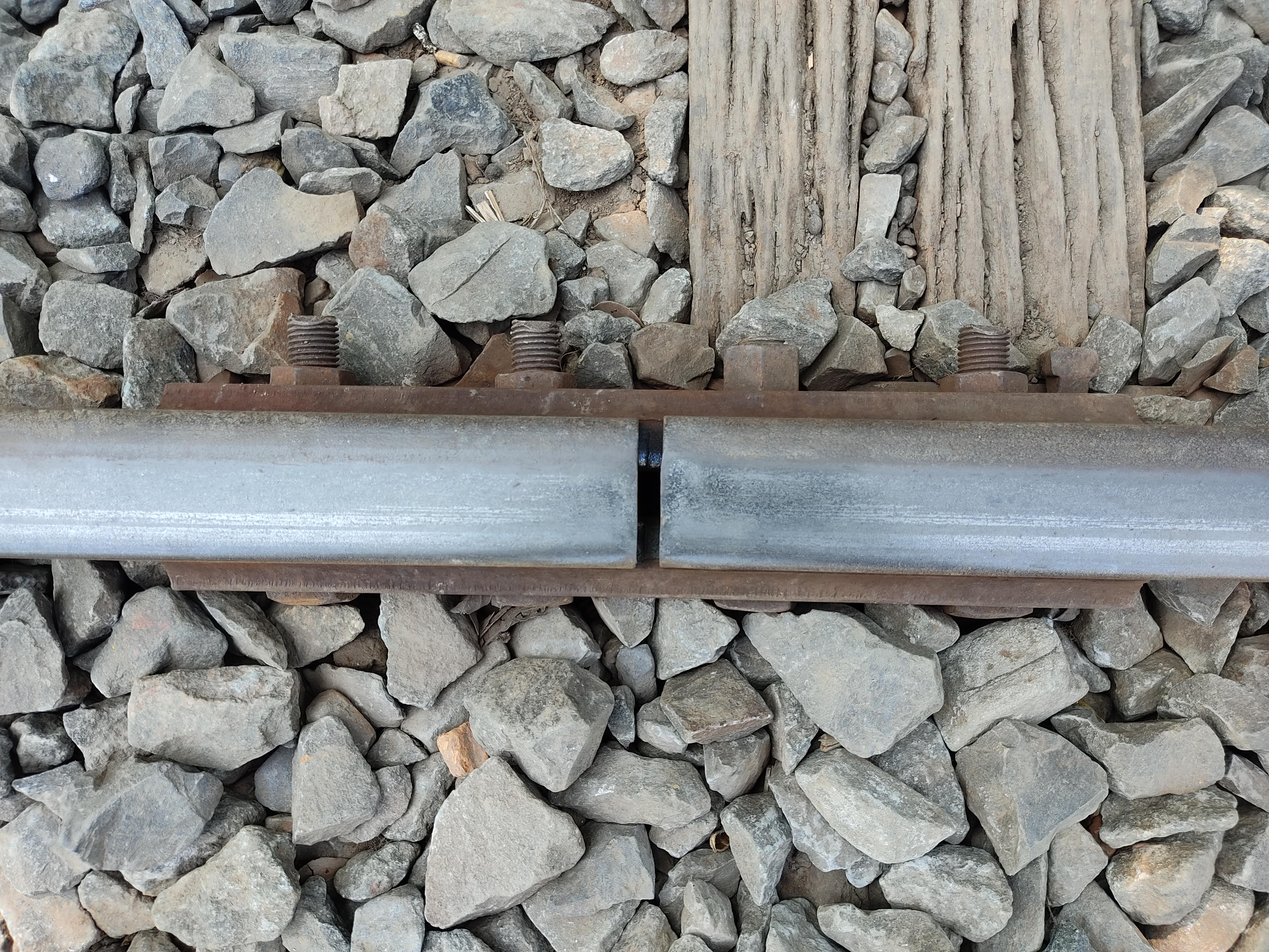railway-gap: (495, 332, 743, 581)
